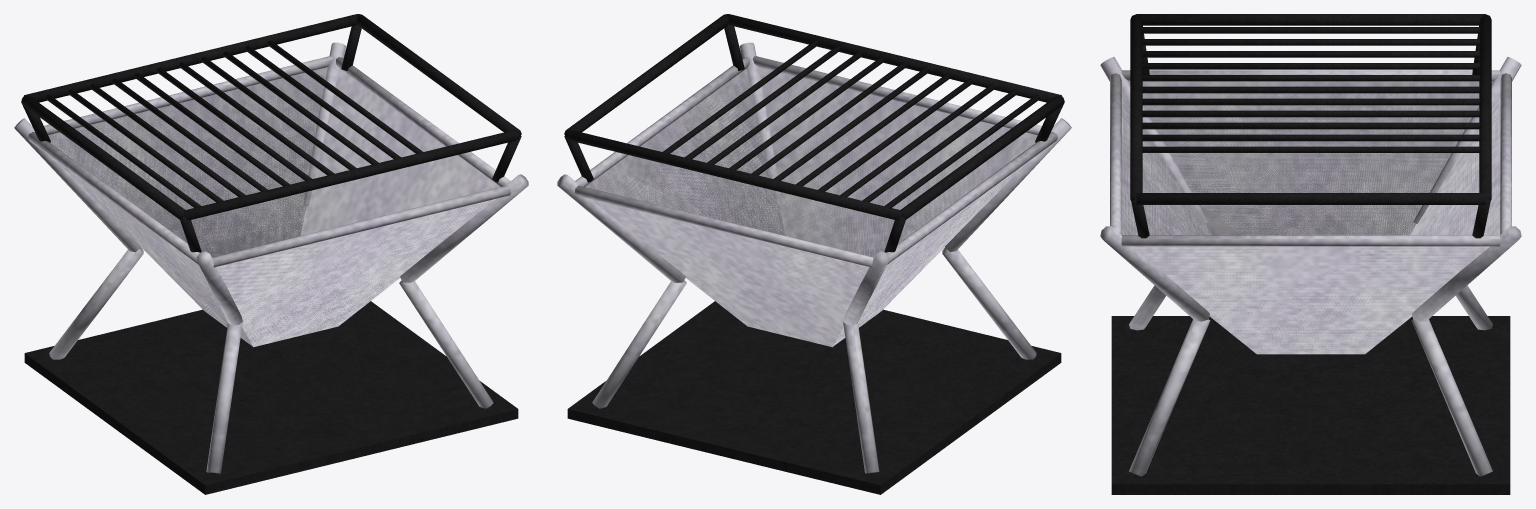
The model's file is firepit_snowpeak.glb.
3 views of the same model, side by side, from view 1: azimuth 30°, elevation 25°; view 2: azimuth 150°, elevation 25°; view 3: azimuth 270°, elevation 25° (orthographic). The views are drawn at different scales.
Visible parts, largest first — view 1: FirepitBody, FirepitBaseplate, FirepitGrillGrate; view 2: FirepitBody, FirepitBaseplate, FirepitGrillGrate; view 3: FirepitBody, FirepitBaseplate, FirepitGrillGrate.
Boxes of the visible parts, box(x1,y1,x2,y2) form: FirepitBody: box(14, 42, 528, 473); FirepitBaseplate: box(24, 301, 518, 494); FirepitGrillGrate: box(21, 14, 521, 252); FirepitBody: box(557, 42, 1071, 473); FirepitBaseplate: box(567, 301, 1061, 494); FirepitGrillGrate: box(564, 14, 1064, 252); FirepitBody: box(1100, 57, 1521, 476); FirepitBaseplate: box(1111, 316, 1510, 494); FirepitGrillGrate: box(1130, 14, 1491, 238).
Bounding box in the file's own units: 0.525 × 0.4075 × 0.5071.
Materials: 2 (2 with a texture image).
